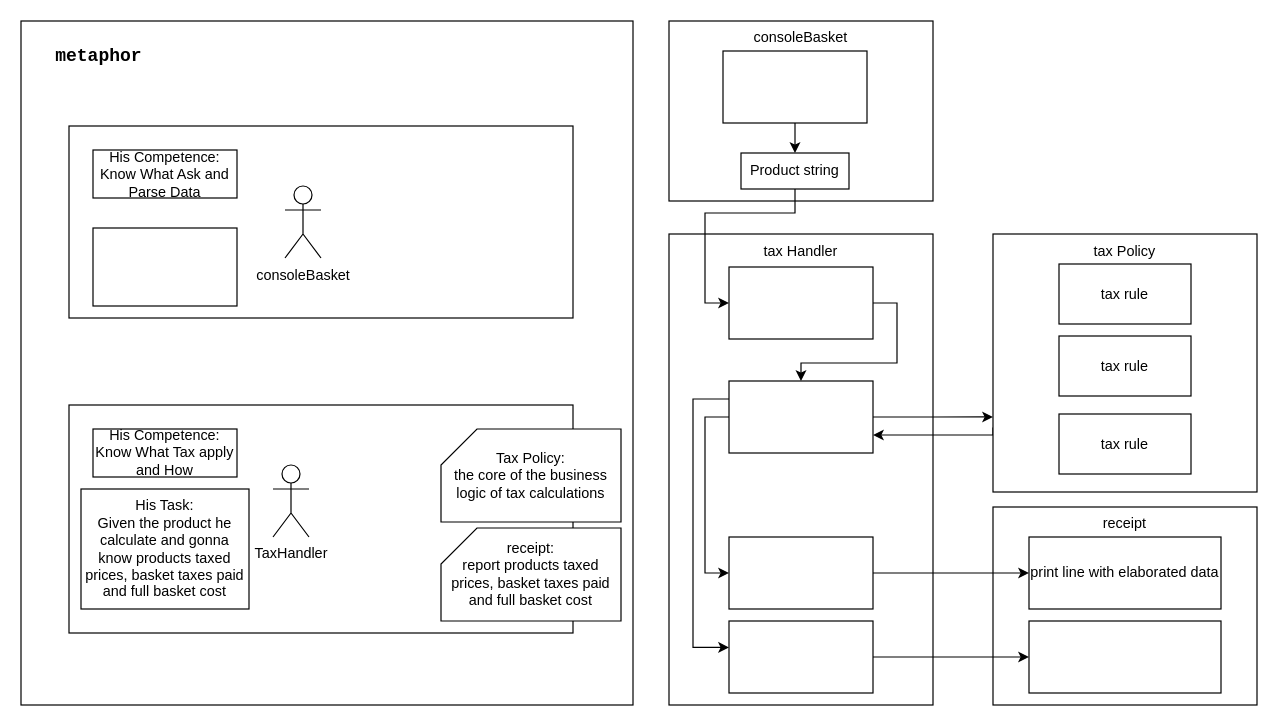
Some shapes in this 1278 by 726 pixel diagram are drawn without their labels. The centre of each missing label's shape, as x and y in pixels:
"His Task: Ask data to user And Parse the data as a Basket Object" goes at point 164,266.
"iteratively apply rules on every product" goes at point 800,416.
"keep summary data" goes at point 800,656.
"Keep temp data and reset them internally" goes at point 800,572.
"parse and absorb" goes at point 800,302.
"print summary data" goes at point 1124,656.
"Prompt Handling Input" goes at point 794,86.
